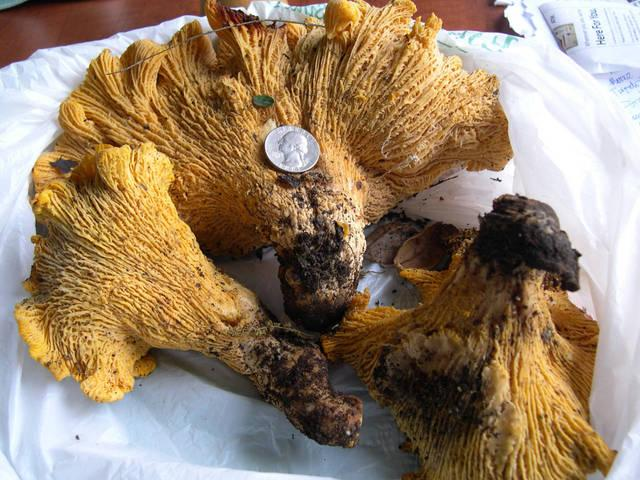Edible Mushroom: (30, 0, 514, 334), (13, 140, 363, 448), (320, 192, 618, 478)
